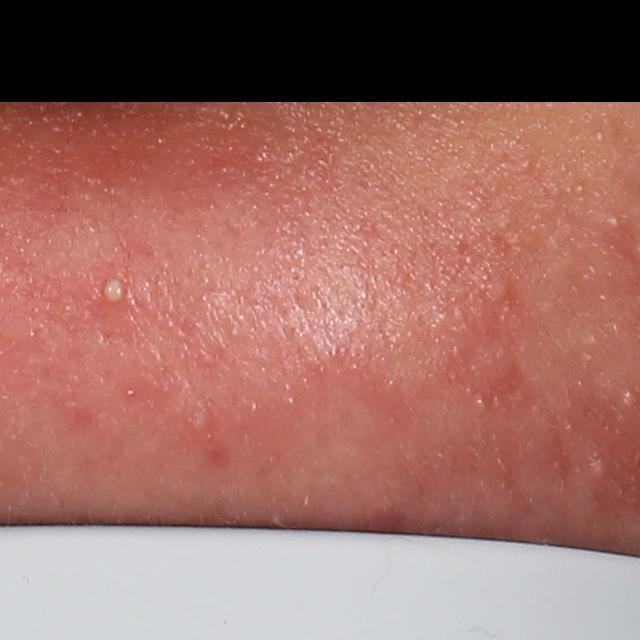pustule: (98, 277, 123, 306)
